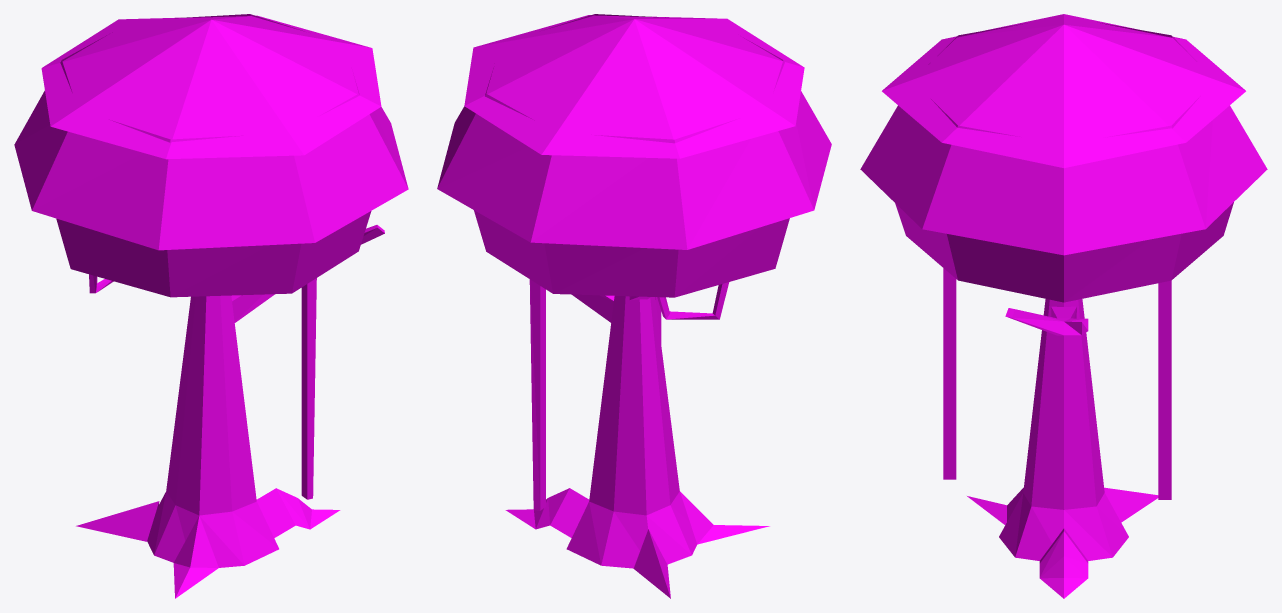
File: tree_with_vines.obj
3 renders of one model, left to right at view 1: azimuth 30°, elevation 25°; view 2: azimuth 150°, elevation 25°; view 3: azimuth 270°, elevation 25°, orthographic.
Parts seen in each view (by area): view 1: tree_with_vines_front, tree_with_vines_back; view 2: tree_with_vines_front, tree_with_vines_back; view 3: tree_with_vines_front, tree_with_vines_back.
Part boxes in pixels (x1,y1,x2,y2): tree_with_vines_front: (14,14,408,297); tree_with_vines_back: (76,225,384,598); tree_with_vines_front: (437,14,831,297); tree_with_vines_back: (505,279,769,598); tree_with_vines_front: (860,14,1267,302); tree_with_vines_back: (943,268,1171,598).
Bounding box in the file's own units: 2.5 × 3.47 × 2.5.
